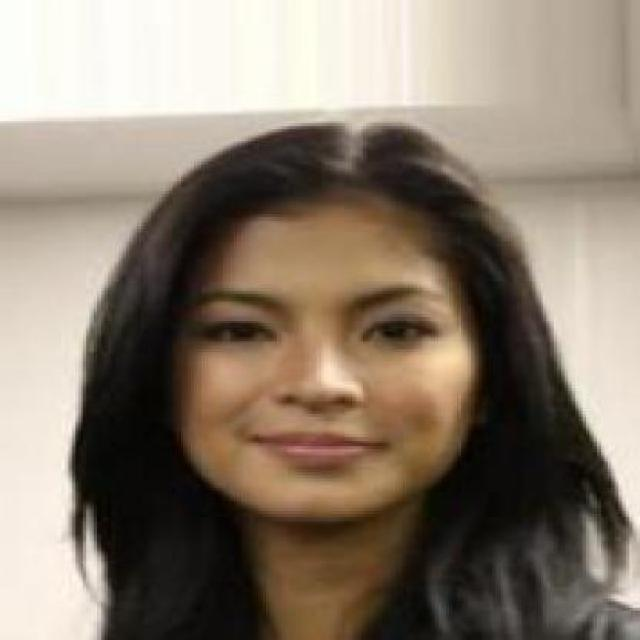closed-mouth: (258, 430, 380, 464)
